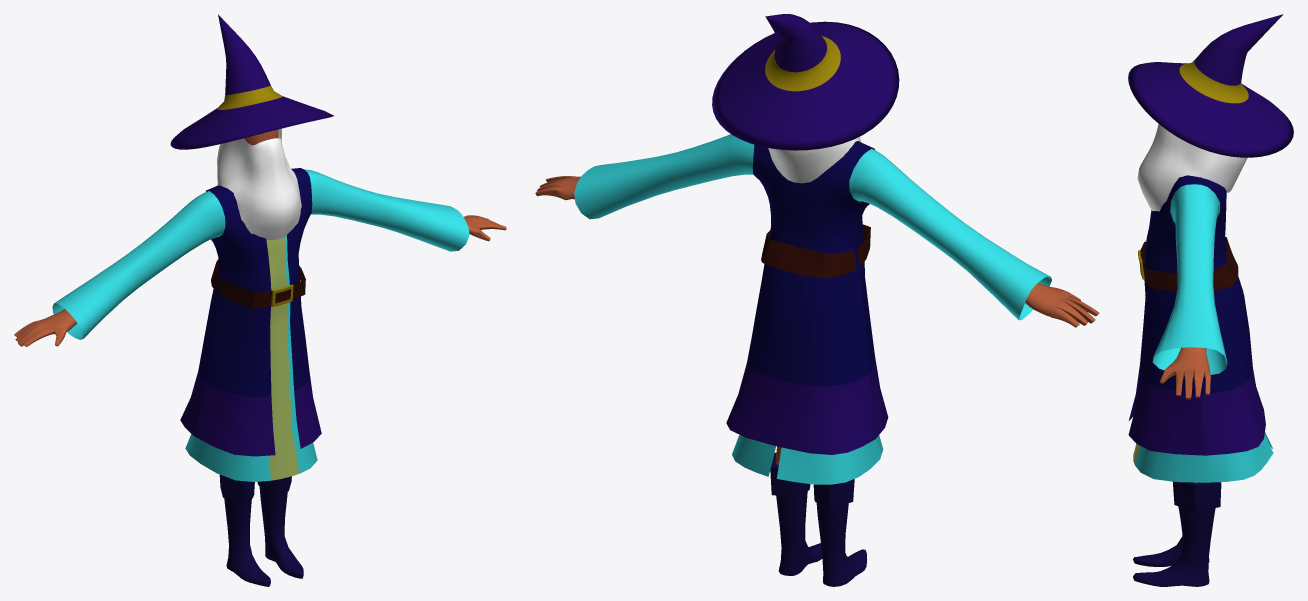
Rendered from wizard.fbx.
3 renders of one model, left to right at view 1: azimuth 30°, elevation 25°; view 2: azimuth 150°, elevation 25°; view 3: azimuth 270°, elevation 25°, orthographic. The views are drawn at different scales.
Parts seen in each view (by area): view 1: dress, vest, body, Cone001, Object008, Object007; view 2: vest, dress, Cone001, body, Object007, Object008; view 3: vest, Cone001, dress, body, Object008, Object007.
Boxes of the visible parts, box(x1,y1,x2,y2) form: dress: box(52, 169, 469, 481); vest: box(180, 168, 321, 456); body: box(14, 129, 506, 586); Cone001: box(170, 14, 333, 149); Object008: box(217, 128, 301, 239); Object007: box(211, 259, 305, 308); vest: box(726, 141, 888, 454); dress: box(574, 134, 1051, 484); Cone001: box(712, 14, 899, 150); body: box(535, 176, 1099, 586); Object007: box(761, 224, 870, 278); Object008: box(768, 136, 860, 183); vest: box(1128, 175, 1265, 455); Cone001: box(1128, 14, 1293, 157); dress: box(1133, 184, 1273, 482); body: box(1133, 347, 1221, 586); Object008: box(1137, 124, 1247, 211); Object007: box(1138, 236, 1238, 291).
Size of the model in its own units: 90.19 by 92.35 by 24.83.
